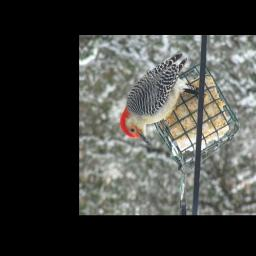Woodpecker: (119, 52, 203, 145)
